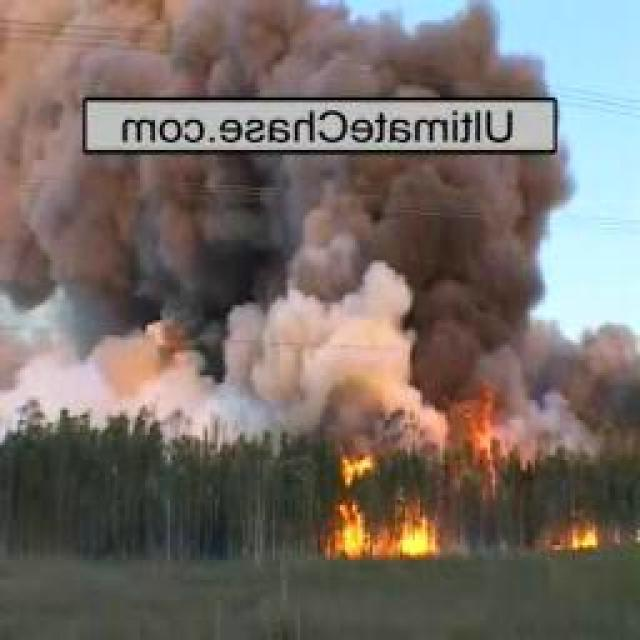Fire: (323, 458, 439, 554), (449, 370, 499, 478), (557, 524, 606, 548)
